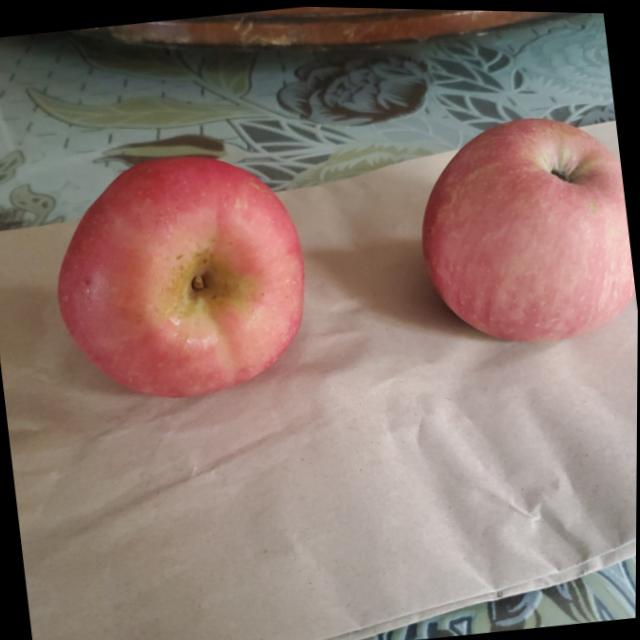apple: (39, 140, 322, 415), (410, 101, 639, 351)
